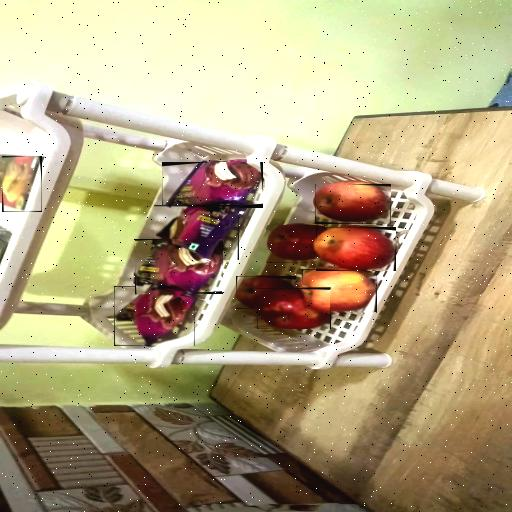Apple: (316, 227, 396, 271), (302, 270, 377, 314), (315, 184, 391, 224), (257, 288, 330, 329), (266, 226, 325, 264), (236, 276, 296, 309)
Choco Fills: (2, 156, 42, 212)
Choco Pie: (114, 286, 195, 346), (154, 205, 239, 260), (162, 162, 263, 208), (135, 240, 221, 293)
